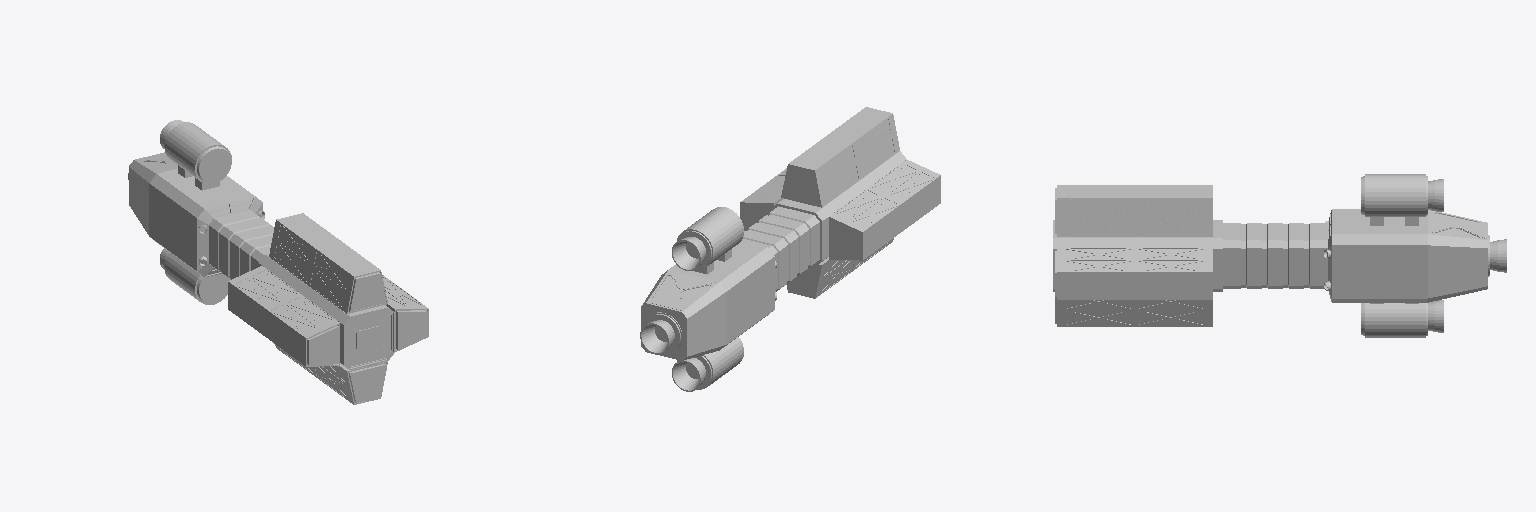
The model's file is transporter-mk-5.obj.
The picture shows the model from 3 angles: view 1: azimuth 30°, elevation 25°; view 2: azimuth 150°, elevation 25°; view 3: azimuth 270°, elevation 25°; orthographic projection.
Visible parts, largest first — view 1: Cube.002_Cube.003; view 2: Cube.002_Cube.003; view 3: Cube.002_Cube.003.
Part boxes in pixels (x1,y1,x2,y2): Cube.002_Cube.003: (128,120,428,404); Cube.002_Cube.003: (640,107,940,391); Cube.002_Cube.003: (1053,174,1506,337).
Bounding box in the file's own units: 4.78 × 5.93 × 15.27.